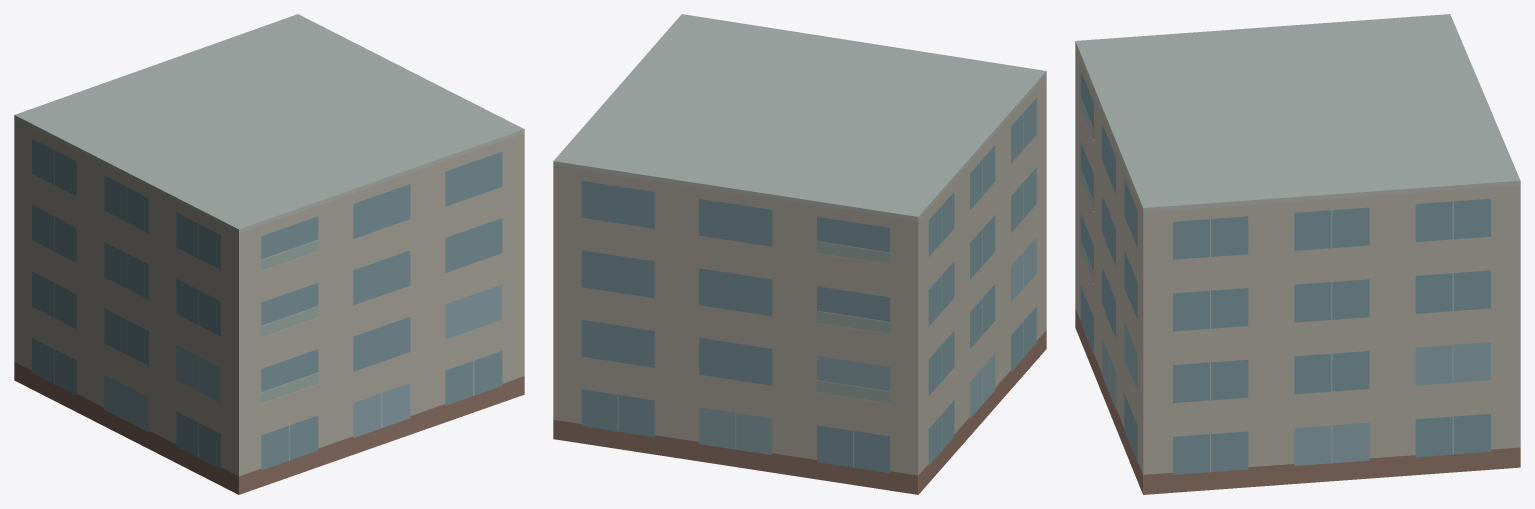
The model's file is survey-upis-32827703.glb.
3 views of the same model, side by side, from view 1: azimuth 30°, elevation 25°; view 2: azimuth 150°, elevation 25°; view 3: azimuth 270°, elevation 25° (orthographic). The views are drawn at different scales.
Visible parts, largest first — view 1: survey-upis-32827703.tmp; view 2: survey-upis-32827703.tmp; view 3: survey-upis-32827703.tmp.
Part boxes in pixels (x1,y1,x2,y2): survey-upis-32827703.tmp: (14,14,524,494); survey-upis-32827703.tmp: (553,14,1046,494); survey-upis-32827703.tmp: (1075,14,1520,494).
Bounding box in the file's own units: 23.8 × 16.4 × 23.08.
